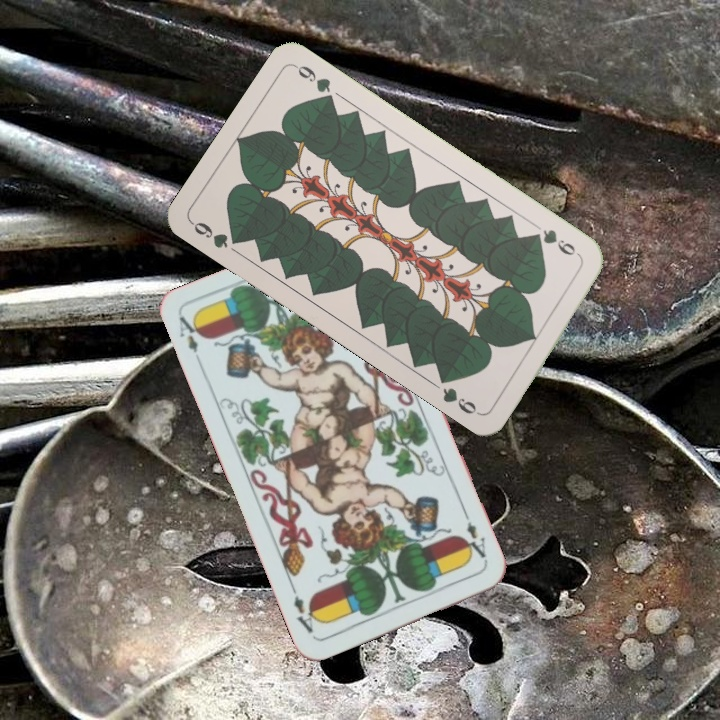EA: (458, 509, 489, 561), (175, 311, 205, 356)
G9: (528, 225, 585, 261), (187, 217, 246, 251)
